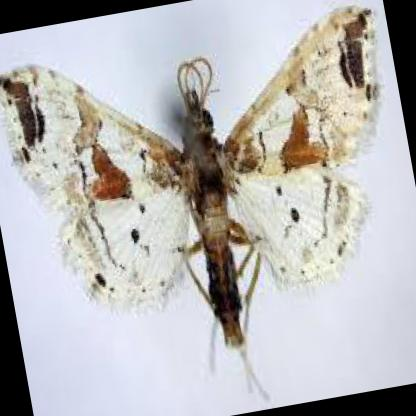leucinodes: (0, 3, 377, 349)
